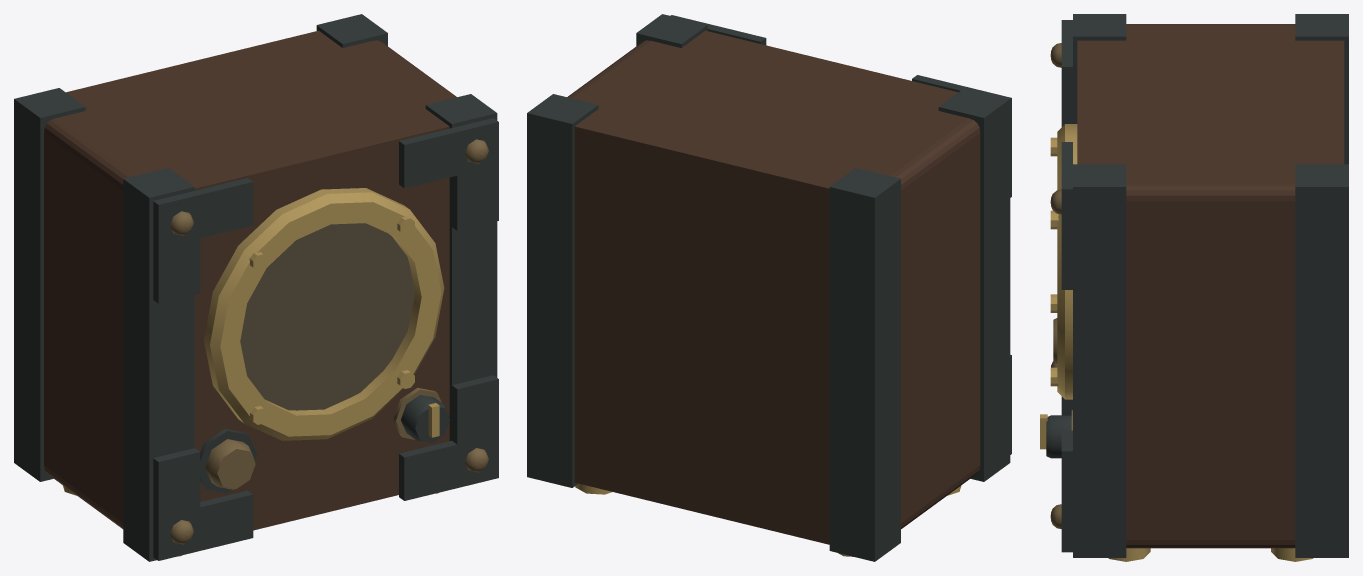
The model's file is Aestrin-small.glb.
3 views of the same model, side by side, from view 1: azimuth 30°, elevation 25°; view 2: azimuth 150°, elevation 25°; view 3: azimuth 270°, elevation 25° (orthographic).
Parts seen in each view (by area): view 1: Oak box, Woven grille cloth, Brass porthole bezel, Iron edge strip front left, Iron edge strip back right, Iron edge strip front right, Corner bracket top-left, Corner bracket bottom-left, Corner bracket bottom-right, Corner bracket top-right, Power — button, Iron edge strip back left (+4 smaller); view 2: Oak box, Iron edge strip back right, Iron edge strip back left, Iron edge strip front left, Iron edge strip front right, Corner bracket top-left; view 3: Oak box, Iron edge strip front right, Iron edge strip back left, Brass porthole bezel, Iron edge strip back right, Iron edge strip front left, Corner bracket top-right, Corner bracket bottom-right, Corner bracket top-left, Volume — knob, Bezel rivets.
Boxes of the visible parts, <box> form: Oak box: <box>44,30,456,530</box>; Woven grille cloth: <box>240,223,414,410</box>; Brass porthole bezel: <box>204,188,444,440</box>; Iron edge strip front left: <box>123,167,194,561</box>; Iron edge strip back right: <box>14,88,85,481</box>; Iron edge strip front right: <box>425,94,497,440</box>; Corner bracket top-left: <box>153,178,253,303</box>; Corner bracket bottom-left: <box>153,448,253,560</box>; Corner bracket bottom-right: <box>399,375,498,500</box>; Corner bracket top-right: <box>399,118,498,230</box>; Power — button: <box>205,439,255,489</box>; Iron edge strip back left: <box>316,14,387,47</box>; Oak box: <box>567,30,980,544</box>; Iron edge strip back right: <box>829,168,900,561</box>; Iron edge strip back left: <box>527,94,598,487</box>; Iron edge strip front left: <box>938,88,1010,481</box>; Iron edge strip front right: <box>636,14,707,47</box>; Corner bracket top-left: <box>912,75,1011,197</box>; Oak box: <box>1077,24,1344,548</box>; Iron edge strip front right: <box>1073,164,1126,557</box>; Iron edge strip back left: <box>1295,164,1348,557</box>; Brass porthole bezel: <box>1057,124,1077,399</box>; Iron edge strip back right: <box>1295,14,1348,164</box>; Iron edge strip front left: <box>1073,14,1126,123</box>; Corner bracket top-right: <box>1061,142,1072,289</box>; Corner bracket bottom-right: <box>1061,430,1072,552</box>; Corner bracket top-left: <box>1061,20,1072,126</box>; Volume — knob: <box>1046,415,1071,458</box>; Bezel rivets: <box>1050,137,1058,386</box>.
Size of the model in its own units: 0.184 by 0.192 by 0.1387.
